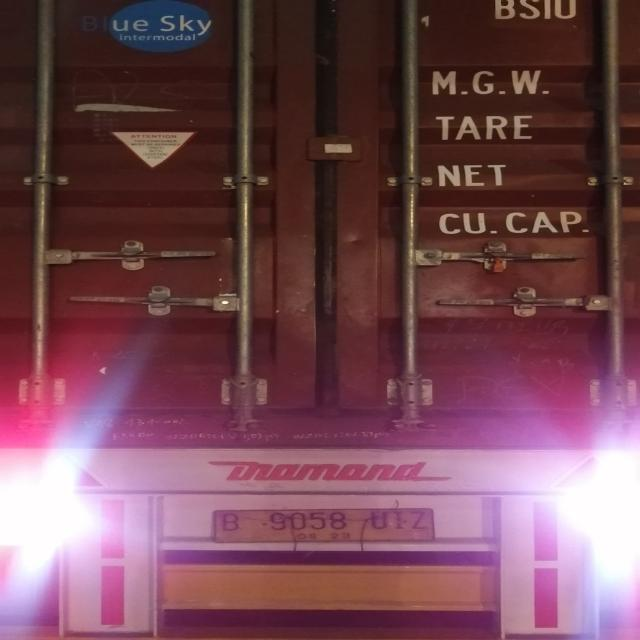seal: (490, 250, 510, 273)
